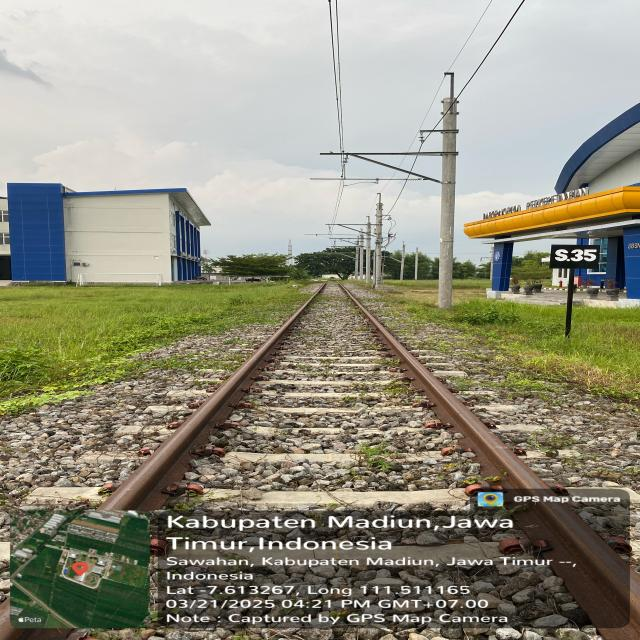rail-detection: (340, 284, 640, 640), (100, 283, 325, 510)
